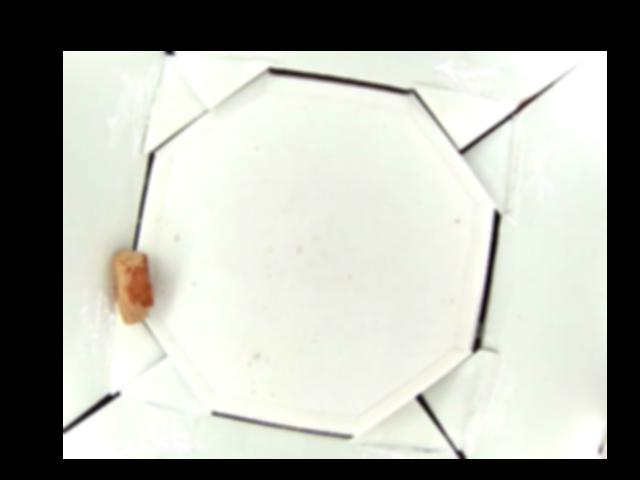Brisk: (111, 249, 154, 325)
